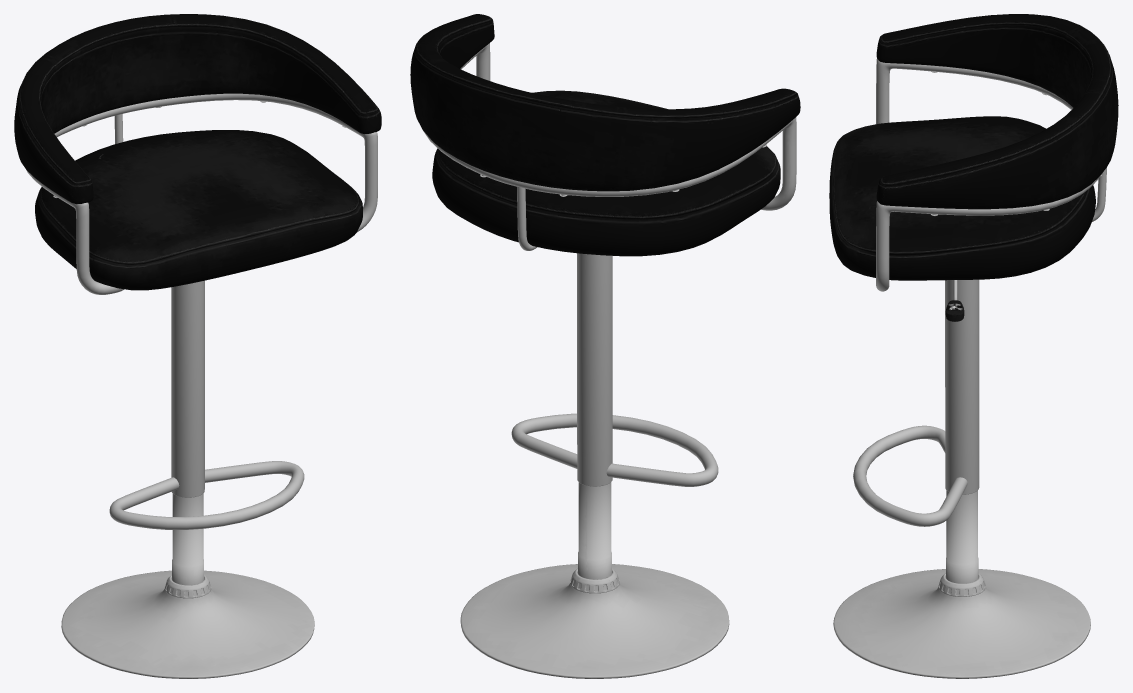
File: bar-stool-leather.glb
3 views of the same model, side by side, from view 1: azimuth 30°, elevation 25°; view 2: azimuth 150°, elevation 25°; view 3: azimuth 270°, elevation 25° (orthographic). The views are drawn at different scales.
Parts seen in each view (by area): view 1: KAC_KAC_0; view 2: KAC_KAC_0; view 3: KAC_KAC_0.
Part boxes in pixels (x1=…): KAC_KAC_0: x1=14, y1=14, x2=381, y2=678; KAC_KAC_0: x1=410, y1=14, x2=800, y2=678; KAC_KAC_0: x1=829, y1=14, x2=1118, y2=678.
Bounding box in the file's own units: 0.632 × 1.05 × 0.4911.
Materials: 1 (1 with a texture image).
